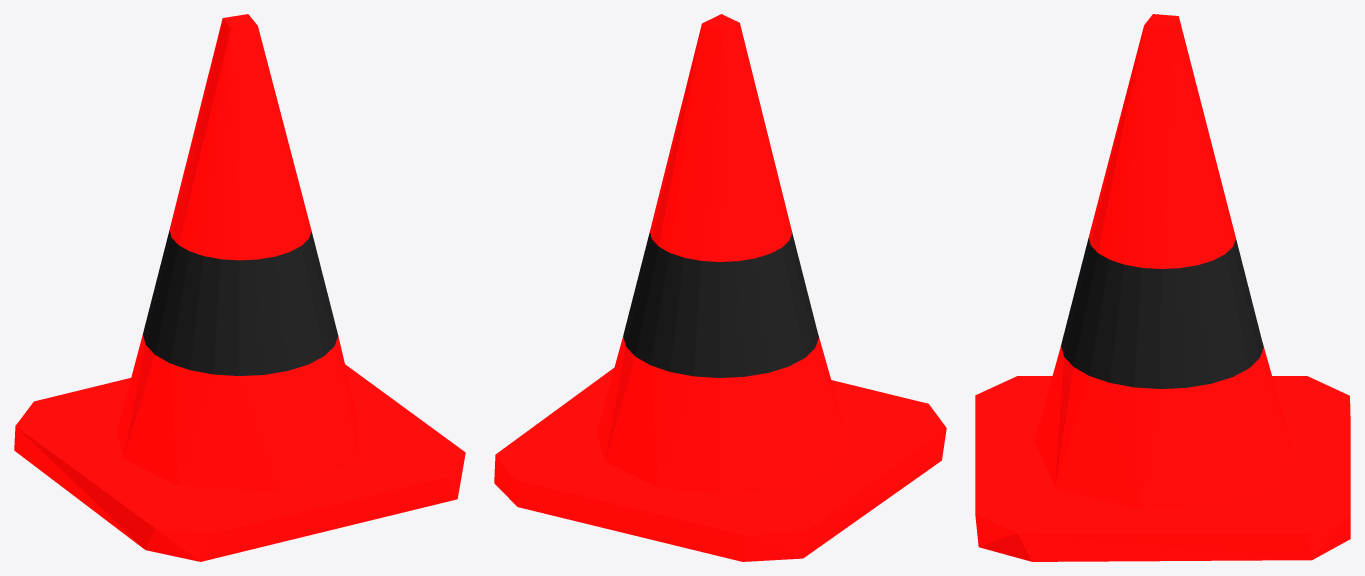
File: cone_red.dae
3 views of the same model, side by side, from view 1: azimuth 30°, elevation 25°; view 2: azimuth 150°, elevation 25°; view 3: azimuth 270°, elevation 25° (orthographic). The views are drawn at different scales.
Visible parts, largest first — view 1: node; view 2: node; view 3: node.
Part boxes in pixels (box(x1,y1,x2,y2)): node: box(14, 14, 465, 561); node: box(494, 14, 946, 561); node: box(975, 14, 1350, 561).
Bounding box in the file's own units: 0.2254 × 0.224 × 0.3034.
